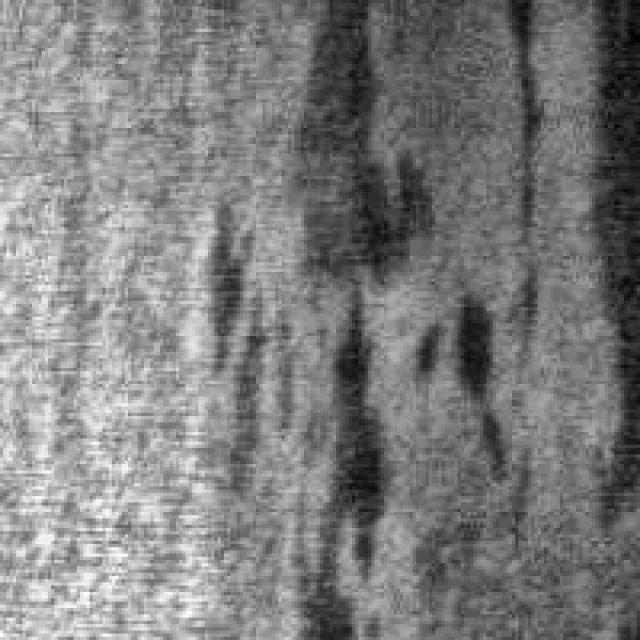Patches: (282, 0, 401, 608), (580, 10, 630, 492), (413, 268, 512, 506), (176, 180, 259, 390), (496, 0, 554, 250)
